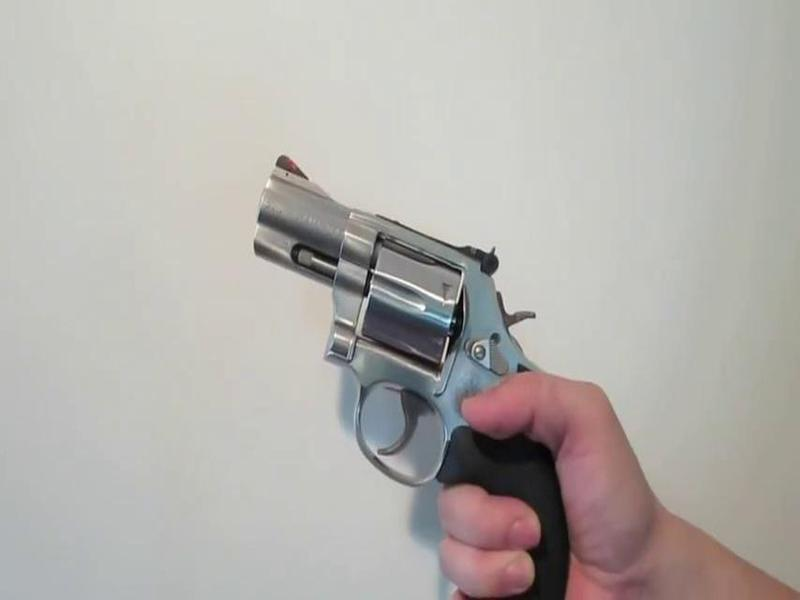Revolver: (240, 134, 559, 600)
